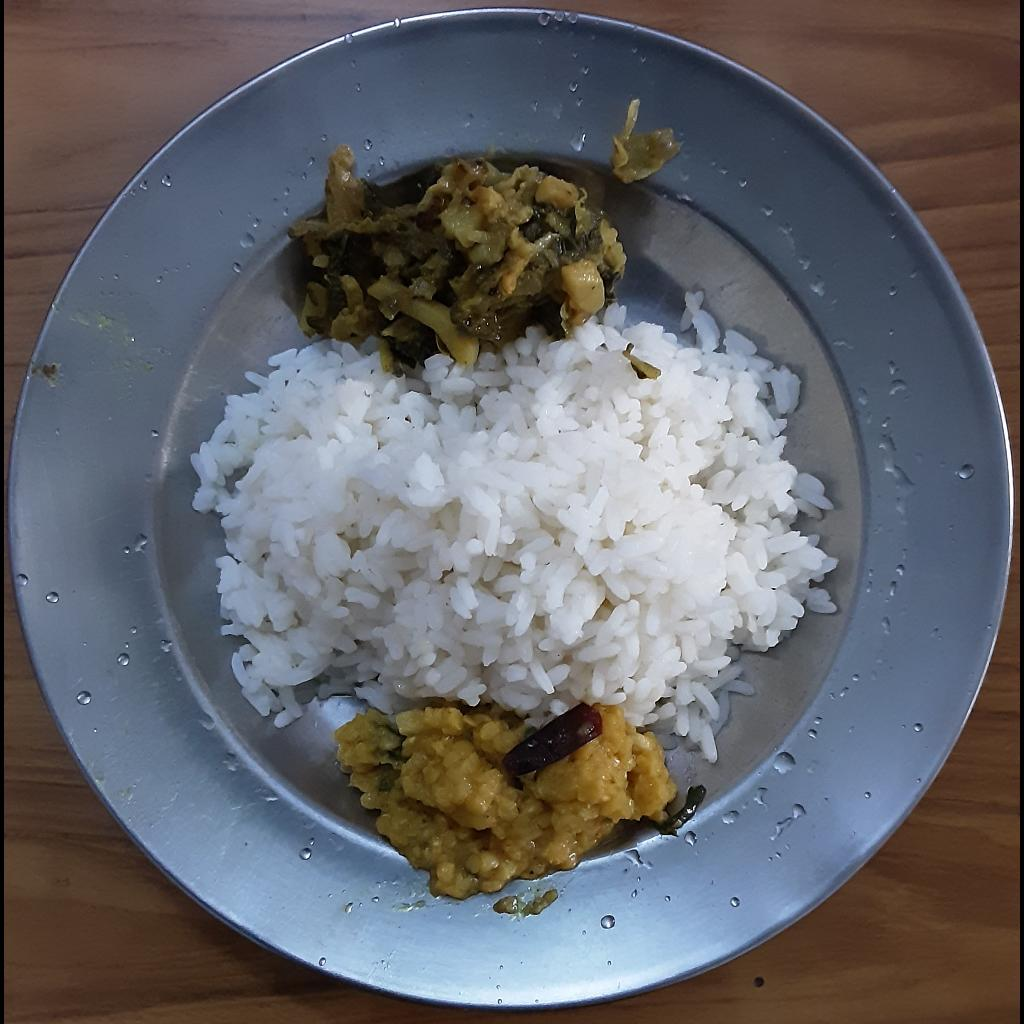daal: (331, 702, 675, 895)
rice: (186, 282, 847, 763)
shak: (278, 144, 631, 360)
